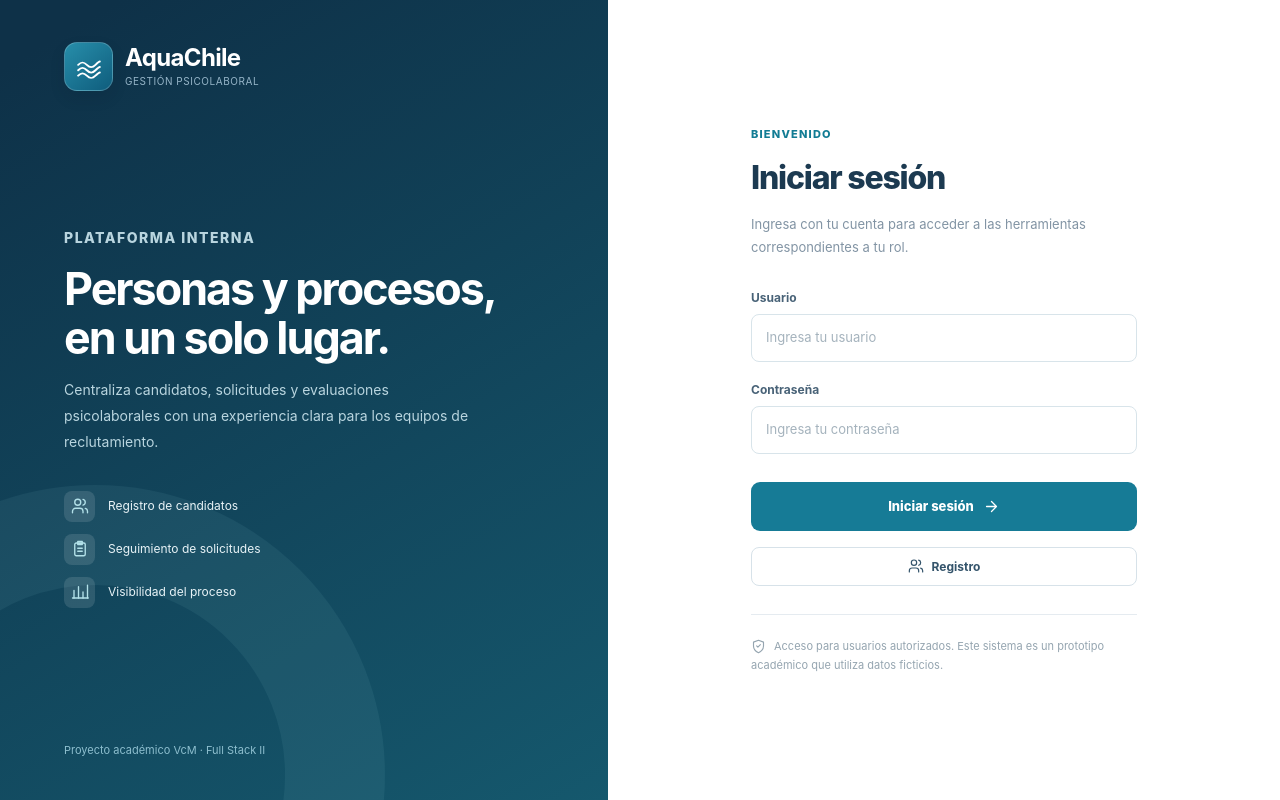
Test: Pruebas unitarias e integradas - Login, Registro y Verificación › debe permitir ingresar credenciales y redirigir al Dashboard de Analista
Type "analista" into the field labelled "Usuario". click: (944, 338)
box: [751,314,1137,362]
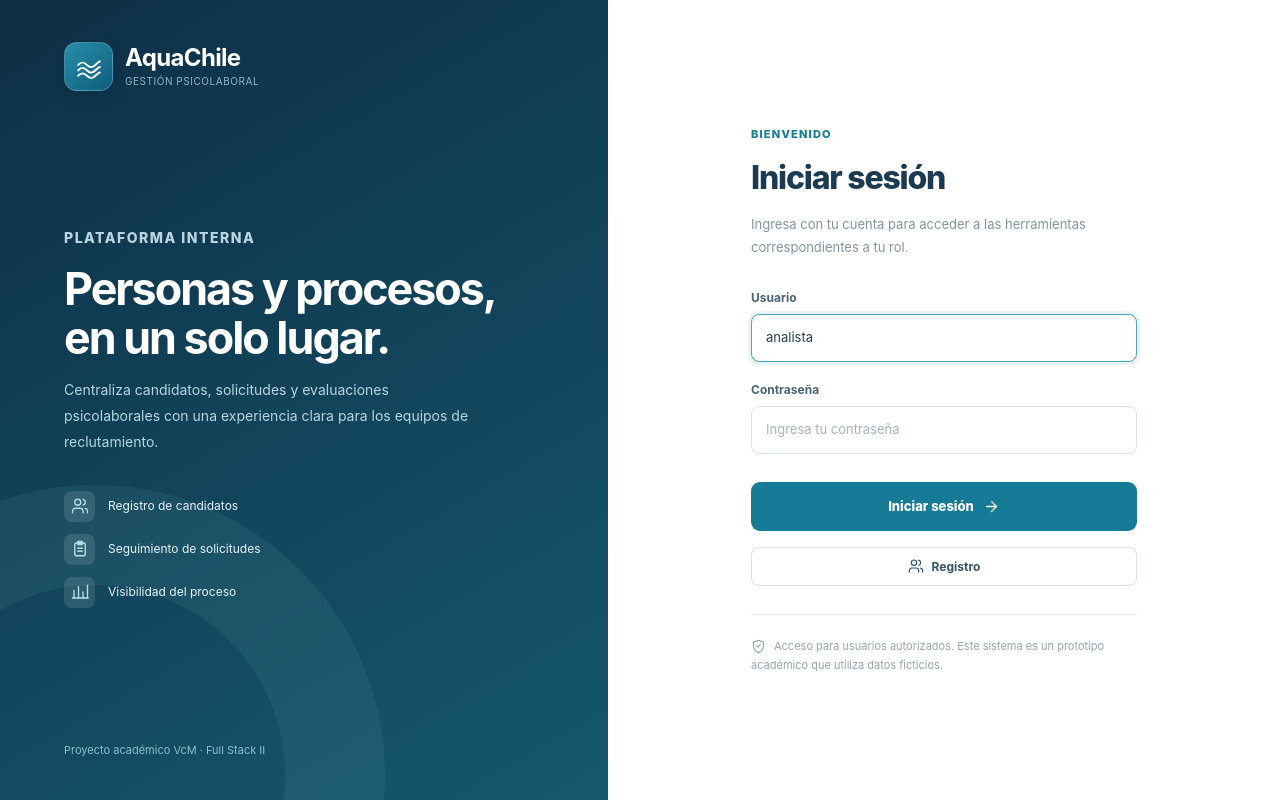
Type "admin123" into the password field labelled "Contraseña". click: (944, 430)
box: [751,406,1137,454]
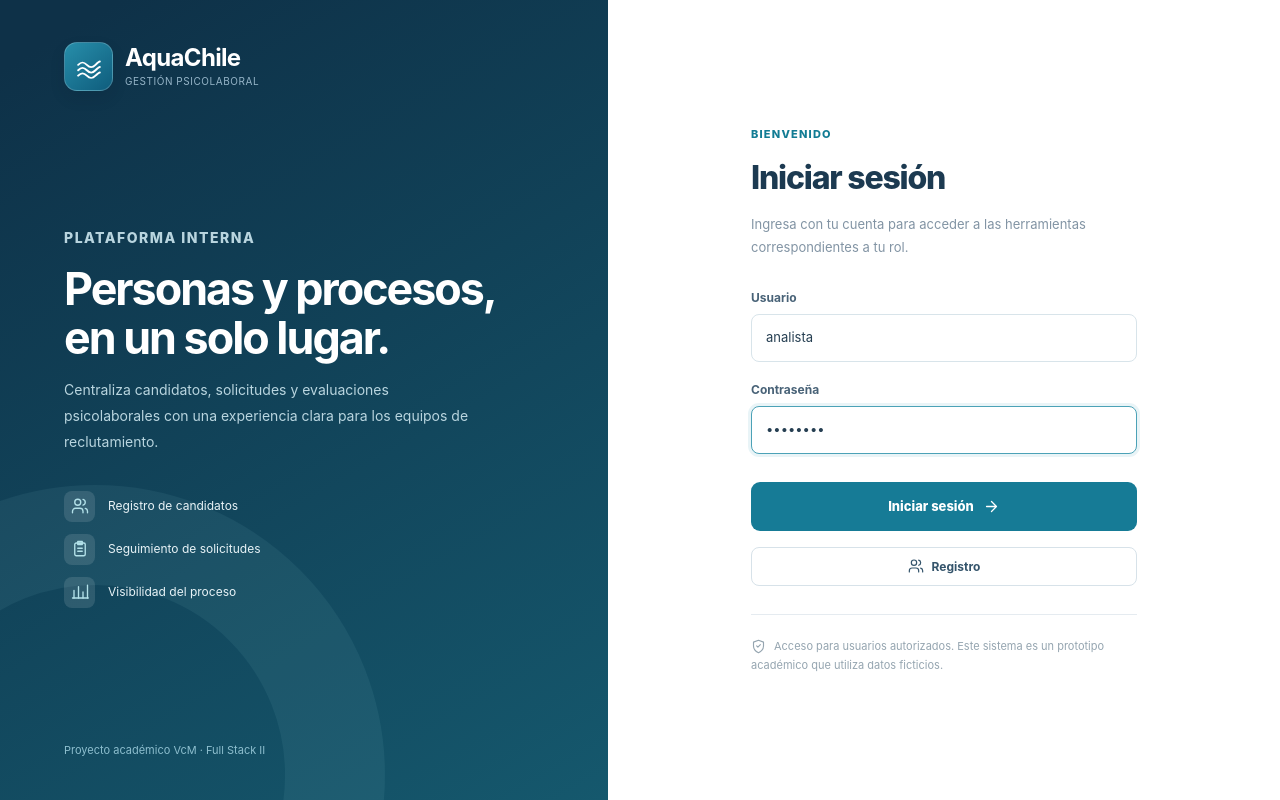
Click the button "Iniciar sesión". click: (944, 506)
box: [751,482,1137,531]
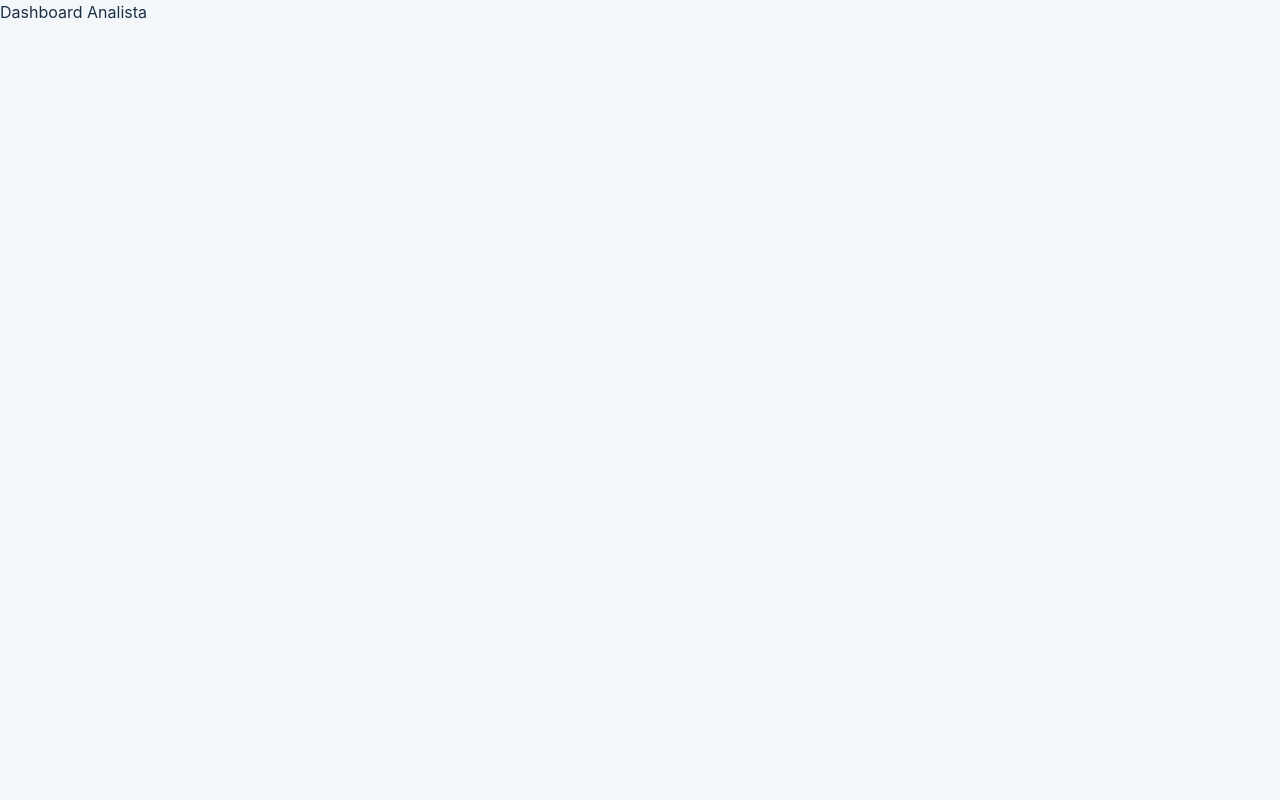
Result: the text "Dashboard Analista" is shown at [0,2,147,22]
